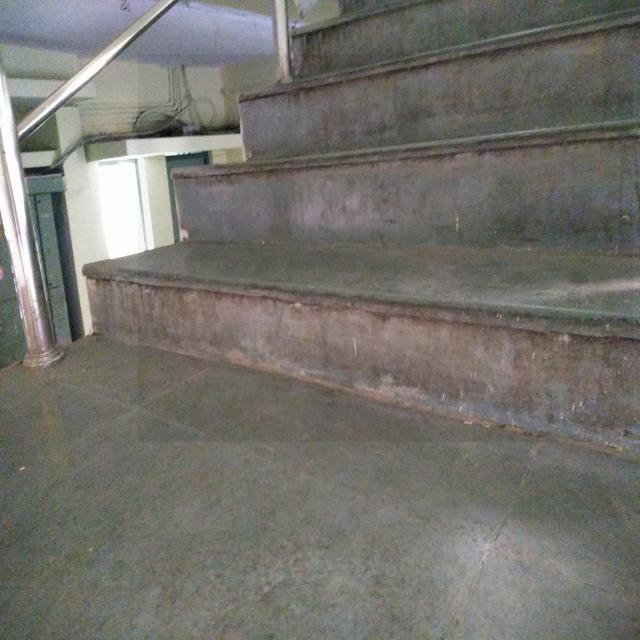stair: (138, 54, 633, 442)
